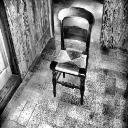chair_success: (49, 6, 96, 106)
